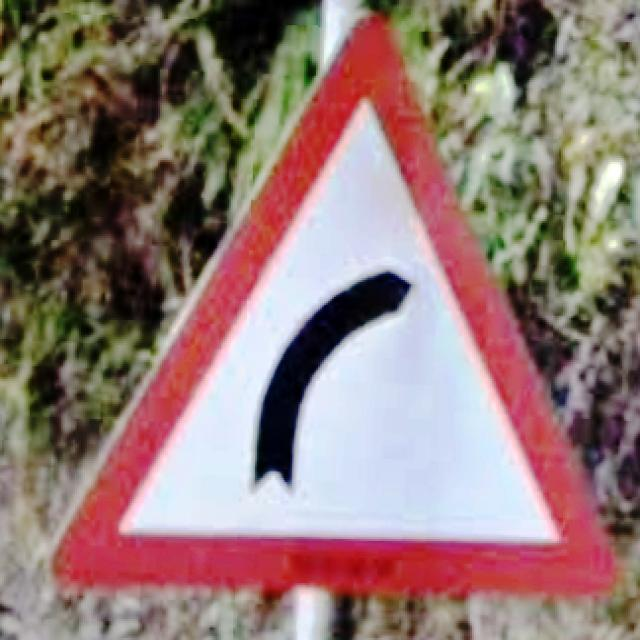rightbend: (49, 15, 618, 602)
